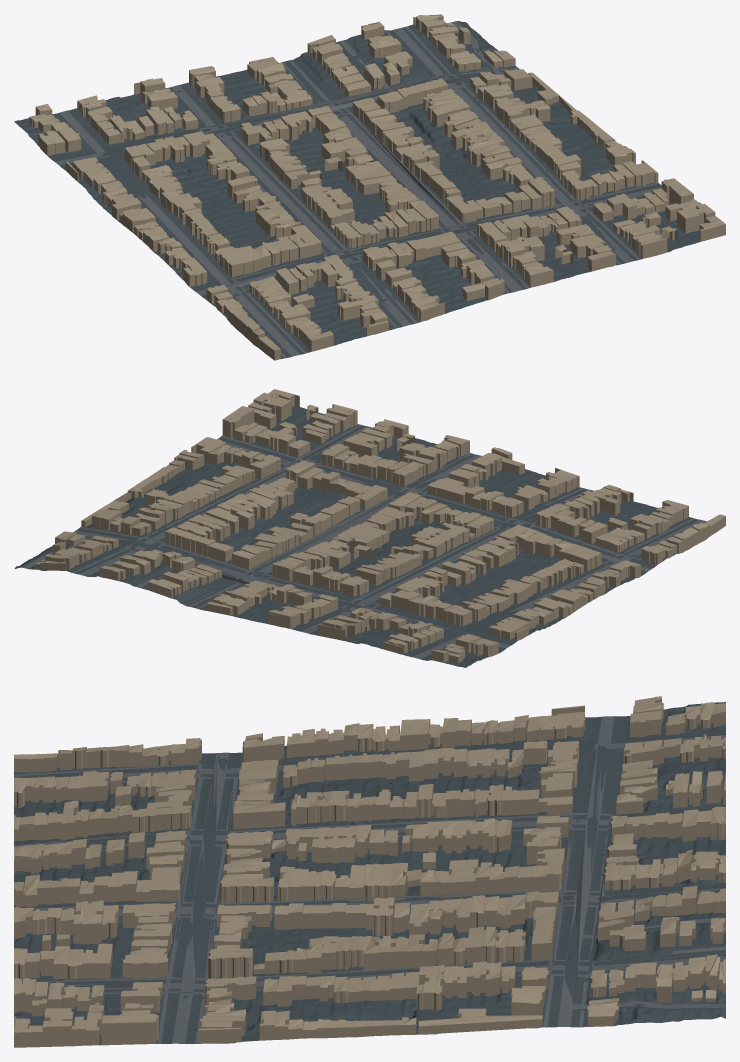
File: epsg26910-1424-10883.lod0.glb
3 views of the same model, one above another, from view 1: azimuth 30°, elevation 25°; view 2: azimuth 150°, elevation 25°; view 3: azimuth 270°, elevation 25° (orthographic). The views are drawn at different scales.
Visible parts, largest first — view 1: epsg26910-1424-10883-lod0; view 2: epsg26910-1424-10883-lod0; view 3: epsg26910-1424-10883-lod0.
Boxes of the visible parts, box(x1,y1,x2,y2) form: epsg26910-1424-10883-lod0: box(14, 14, 725, 360); epsg26910-1424-10883-lod0: box(15, 389, 725, 667); epsg26910-1424-10883-lod0: box(14, 696, 725, 1047).
Size of the model in its own units: 384 by 48.67 by 384.
